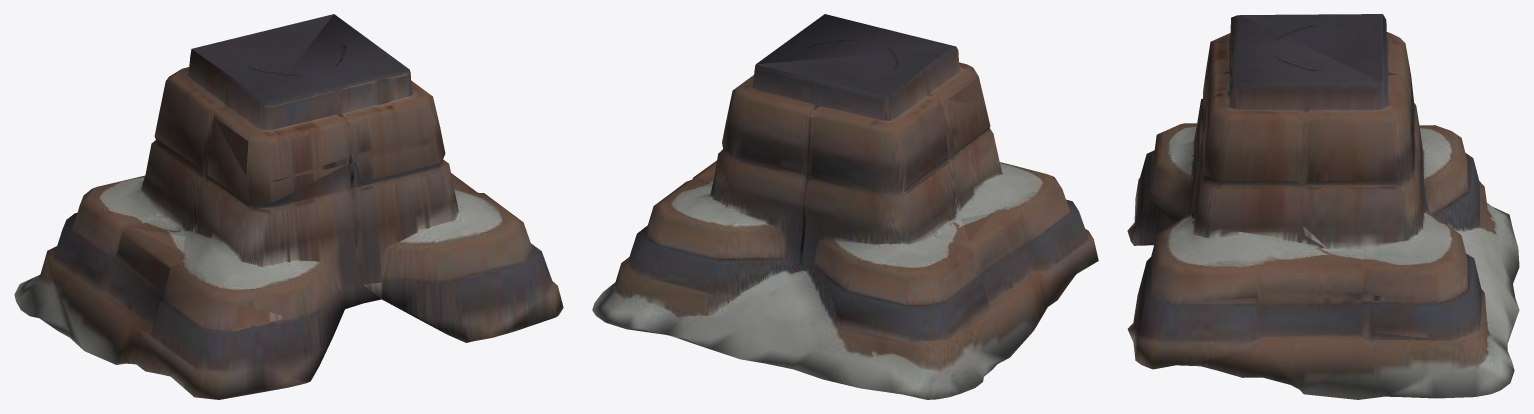
The model's file is prop_rock_peak_c.glb.
The picture shows the model from 3 angles, left to right: view 1: azimuth 30°, elevation 25°; view 2: azimuth 150°, elevation 25°; view 3: azimuth 270°, elevation 25°; orthographic projection. The views are drawn at different scales.
Visible parts, largest first — view 1: Mesh_0; view 2: Mesh_0; view 3: Mesh_0.
Boxes of the visible parts, x1,y1,x2,y2 form: Mesh_0: (14,14,563,399); Mesh_0: (592,14,1098,399); Mesh_0: (1127,14,1519,399).
Bounding box in the file's own units: 1.99 × 1.23 × 1.68.
Materials: 1 (1 with a texture image).
